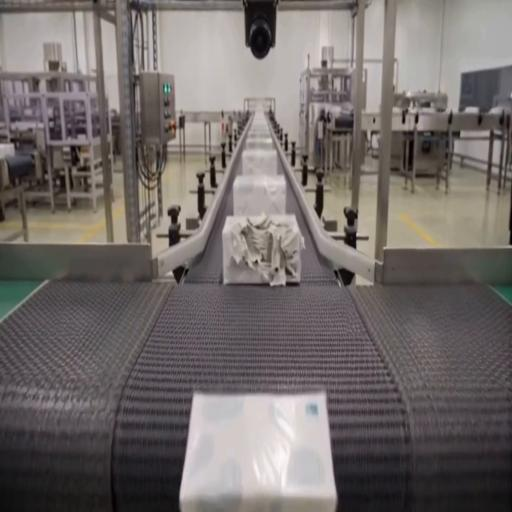defective: (221, 212, 303, 286)
good: (181, 388, 336, 510), (232, 174, 286, 219), (241, 147, 281, 177), (0, 142, 15, 161)
